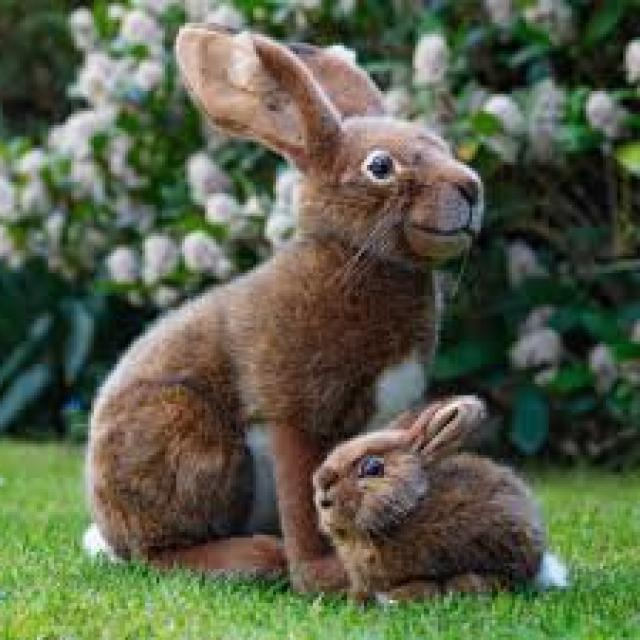hare: (85, 23, 484, 589), (316, 395, 566, 597)
